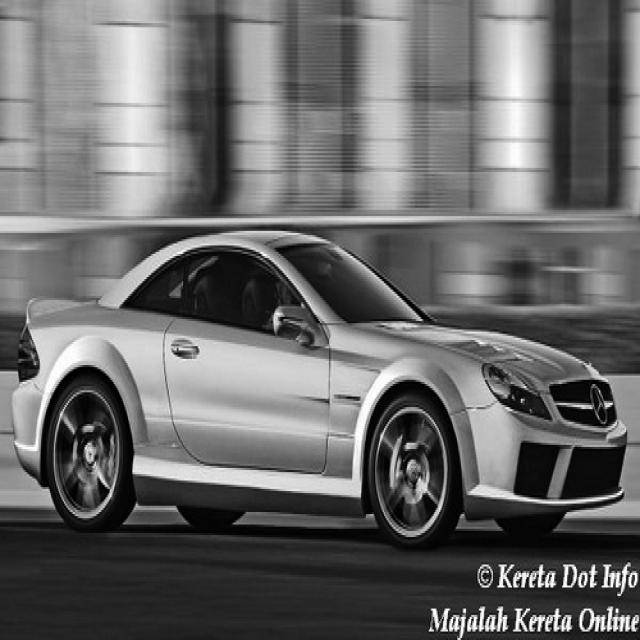car: (10, 227, 627, 548)
